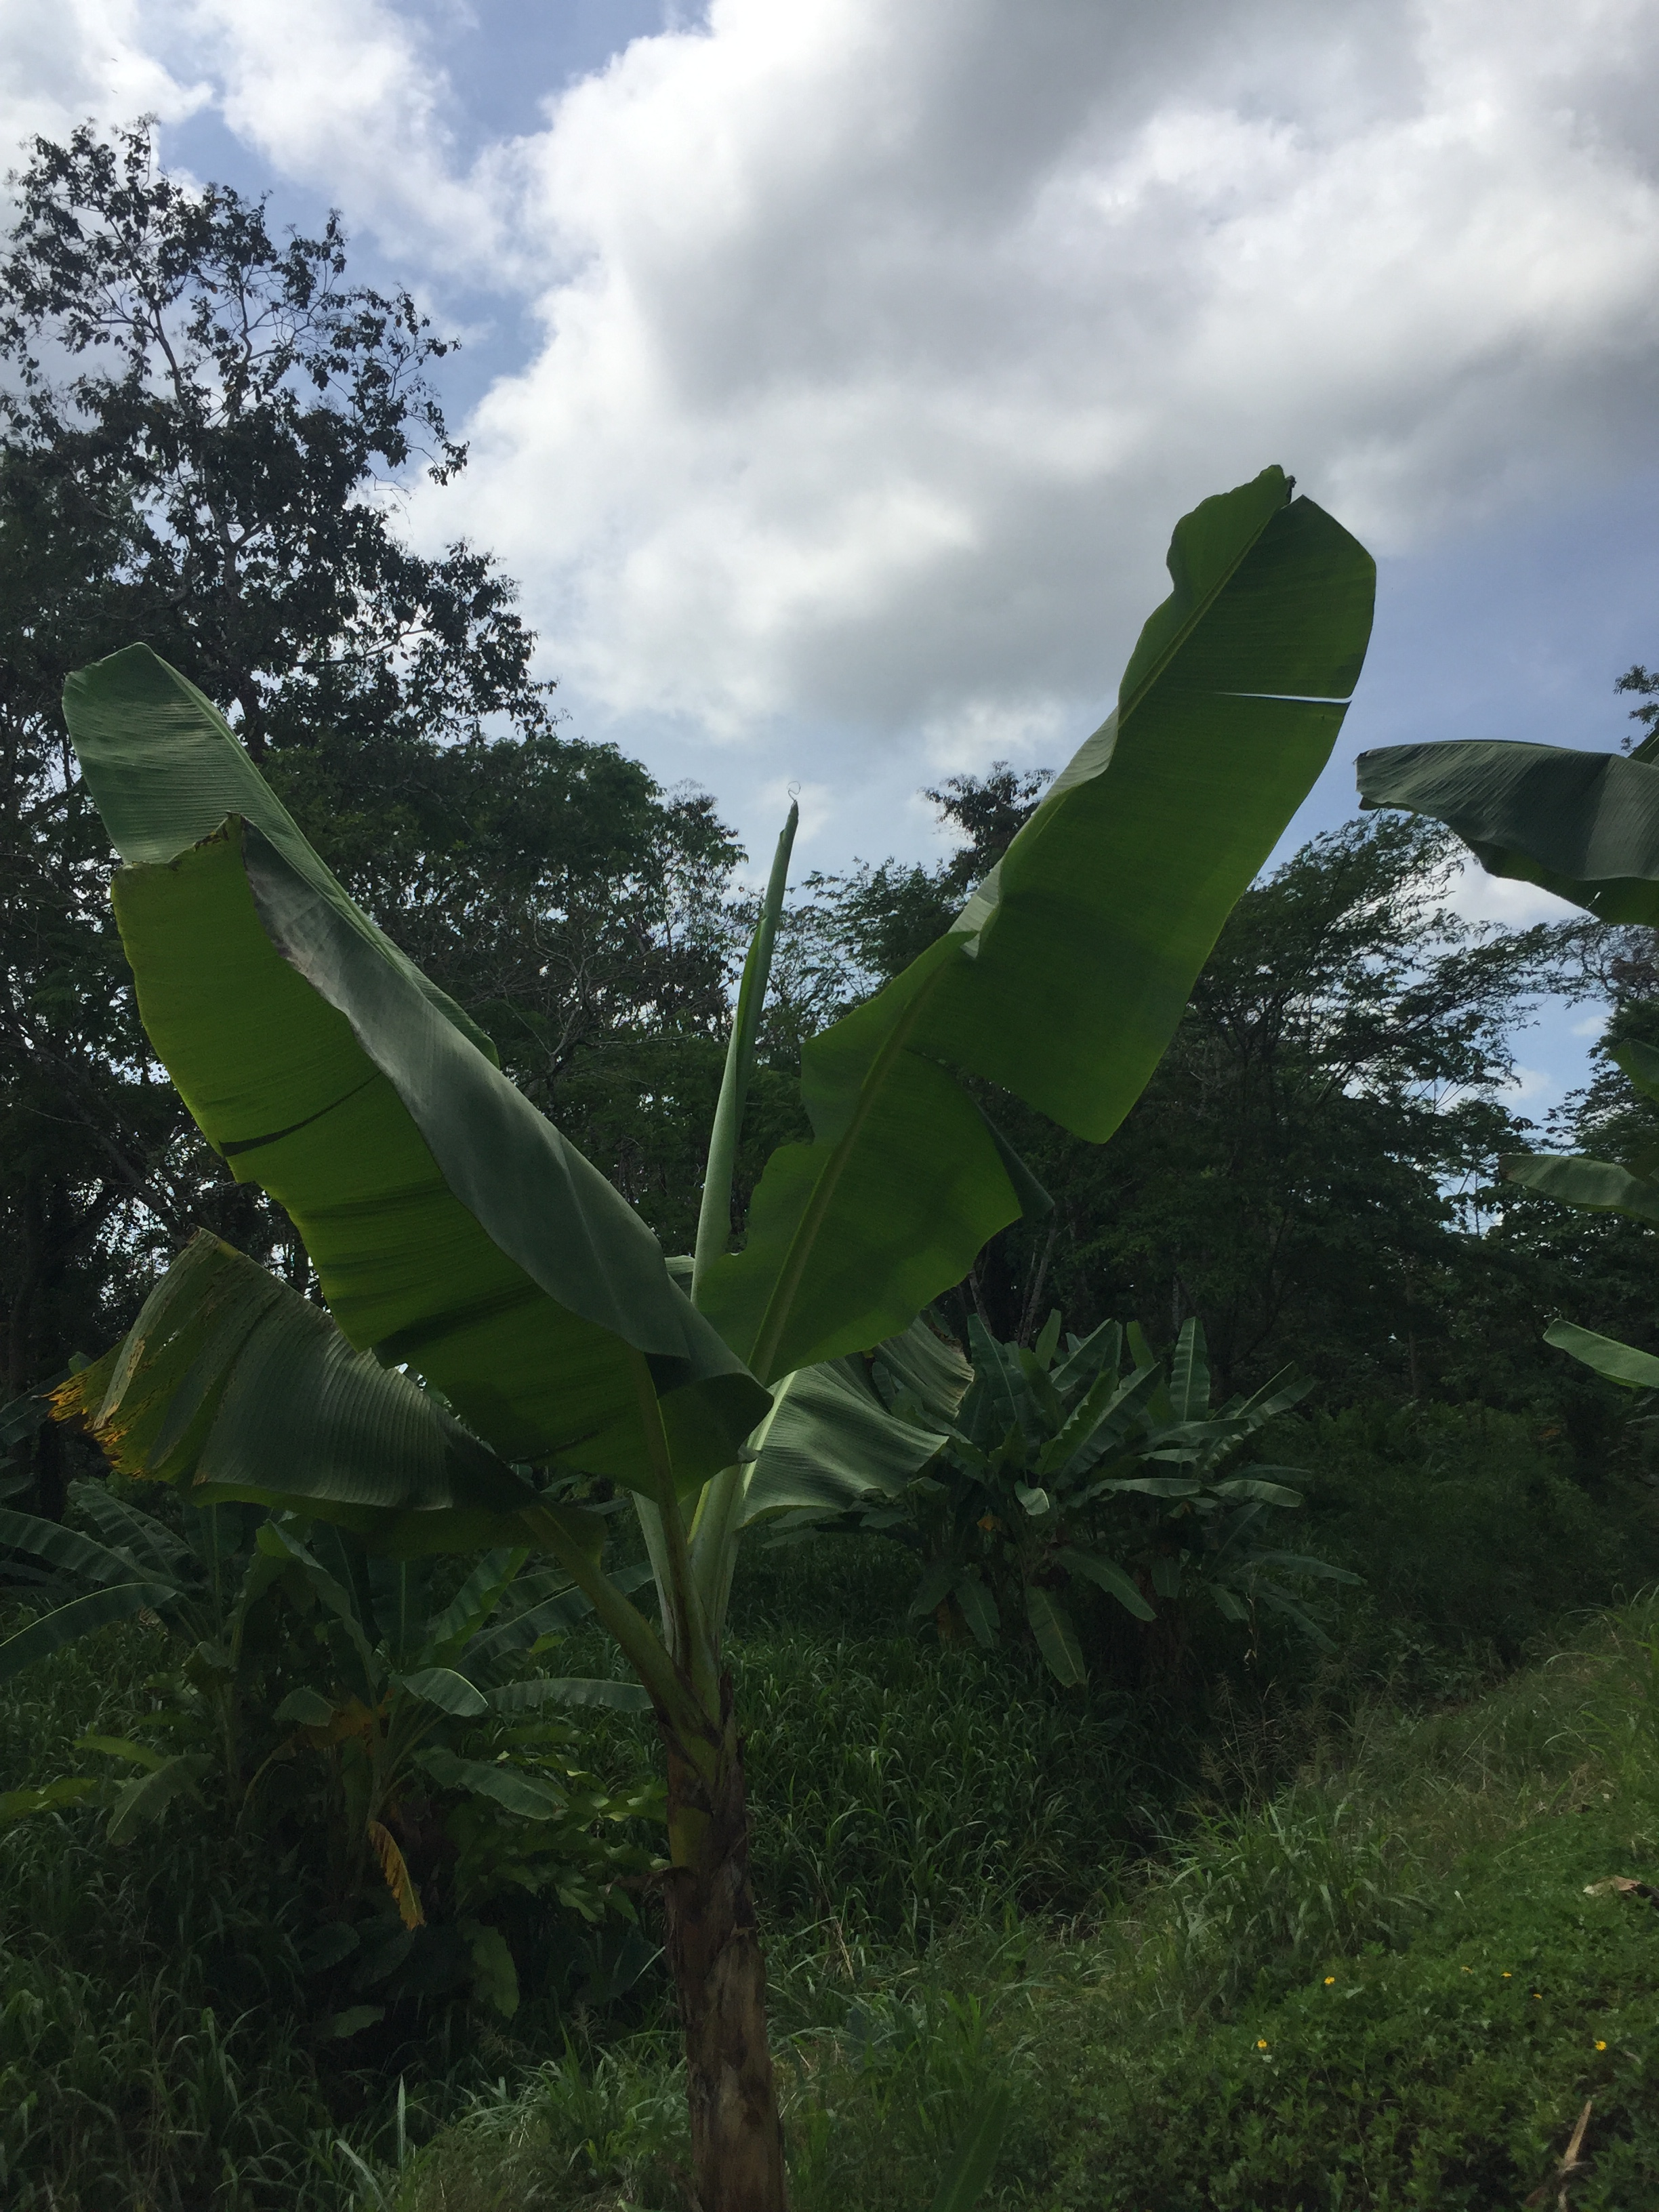candleleafs: (690, 780, 800, 1312)
